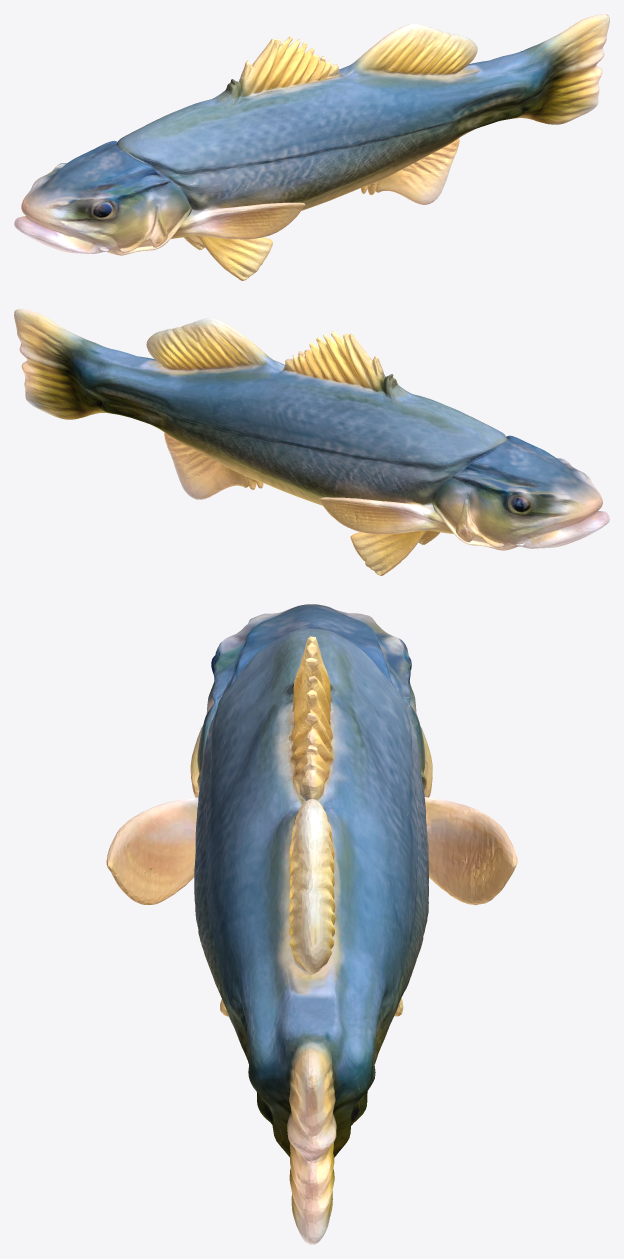
Rendered from walleye.fbx.
3 renders of one model, top to bottom at view 1: azimuth 30°, elevation 25°; view 2: azimuth 150°, elevation 25°; view 3: azimuth 270°, elevation 25°, orthographic. The views are drawn at different scales.
Parts seen in each view (by area): view 1: world; view 2: world; view 3: world.
Part boxes in pixels (<box>): world: <box>14,14,609,280</box>; world: <box>14,309,609,575</box>; world: <box>106,604,517,1244</box>.
Bounding box in the file's own units: 199 × 68.77 × 59.87.
1 material, 1 textured.
